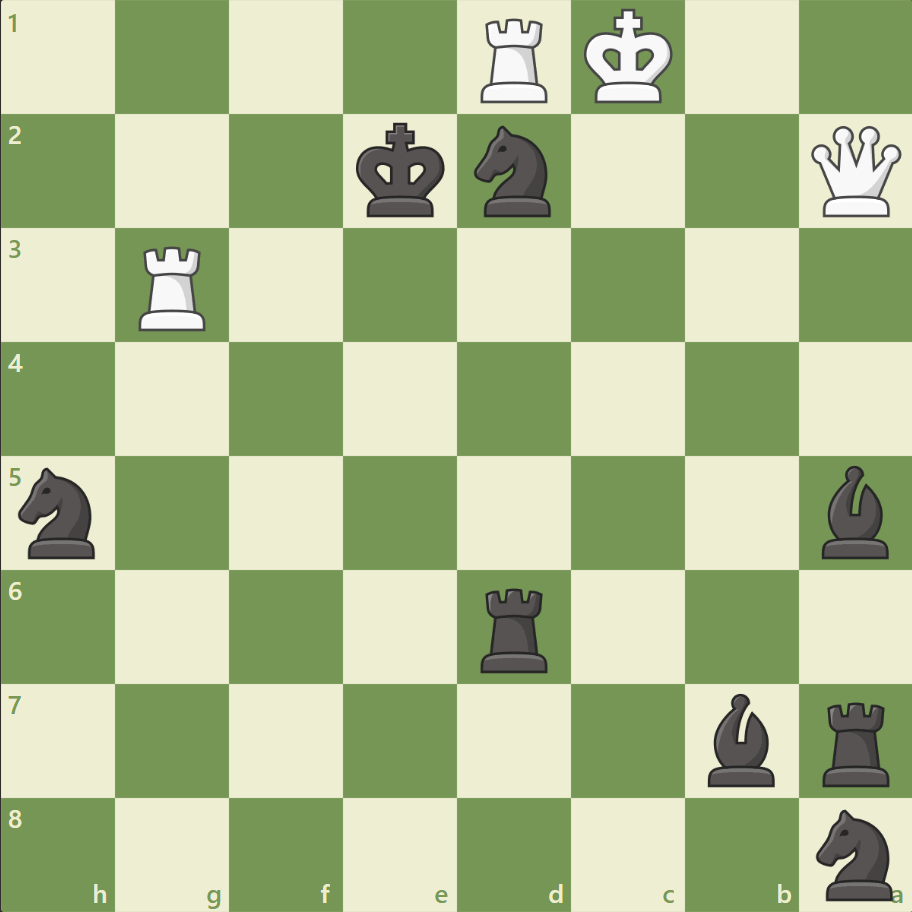K: (579, 4, 679, 112)
Q: (805, 122, 904, 222)
R: (473, 12, 556, 109), (133, 239, 215, 336)
b: (698, 687, 782, 790), (812, 460, 896, 563)
k: (351, 117, 451, 225)
n: (11, 461, 108, 564), (806, 802, 903, 904), (465, 121, 562, 223)
r: (814, 693, 897, 790), (473, 579, 556, 676)
